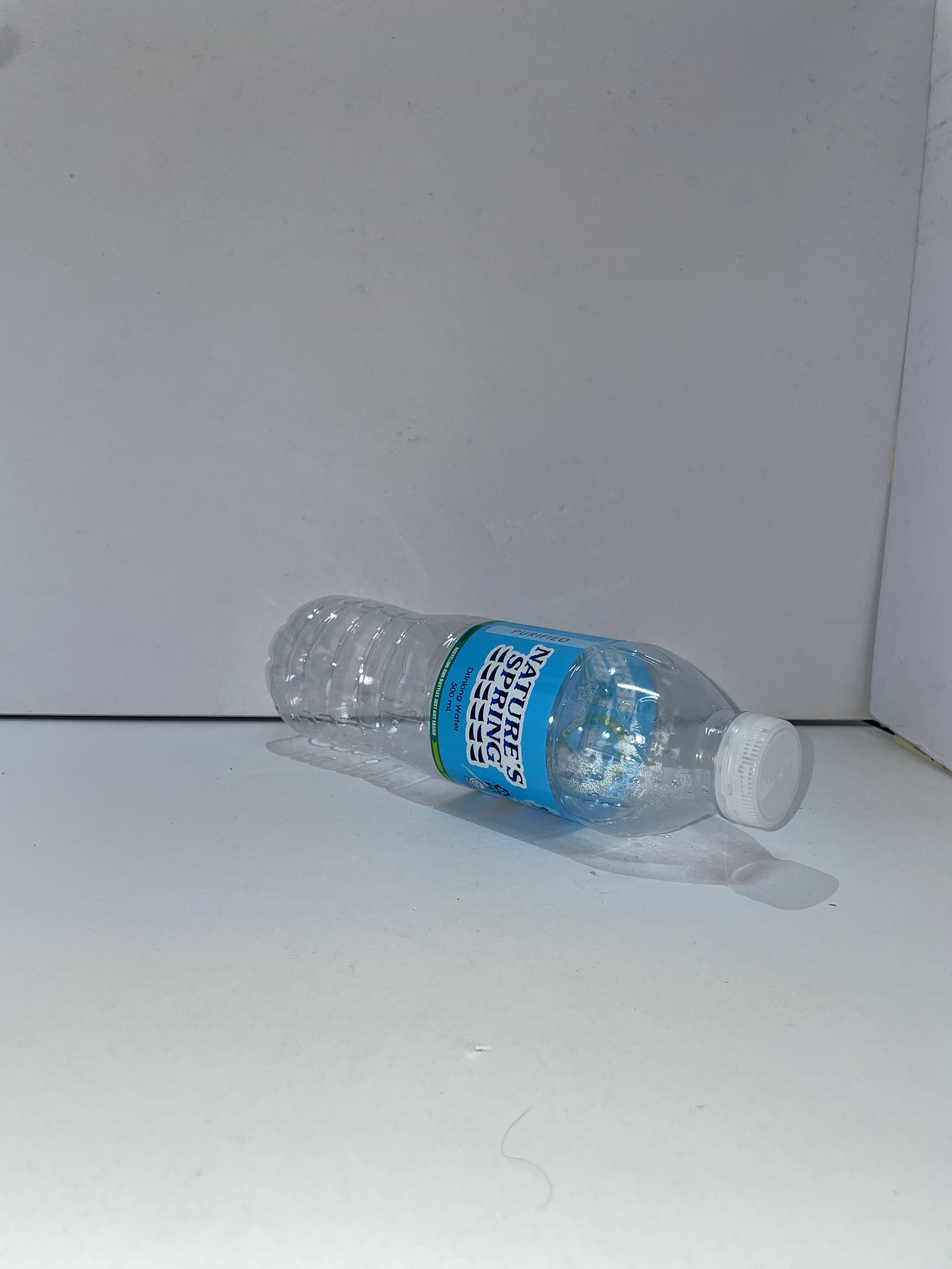natures spring 500ml: (268, 596, 799, 833)
